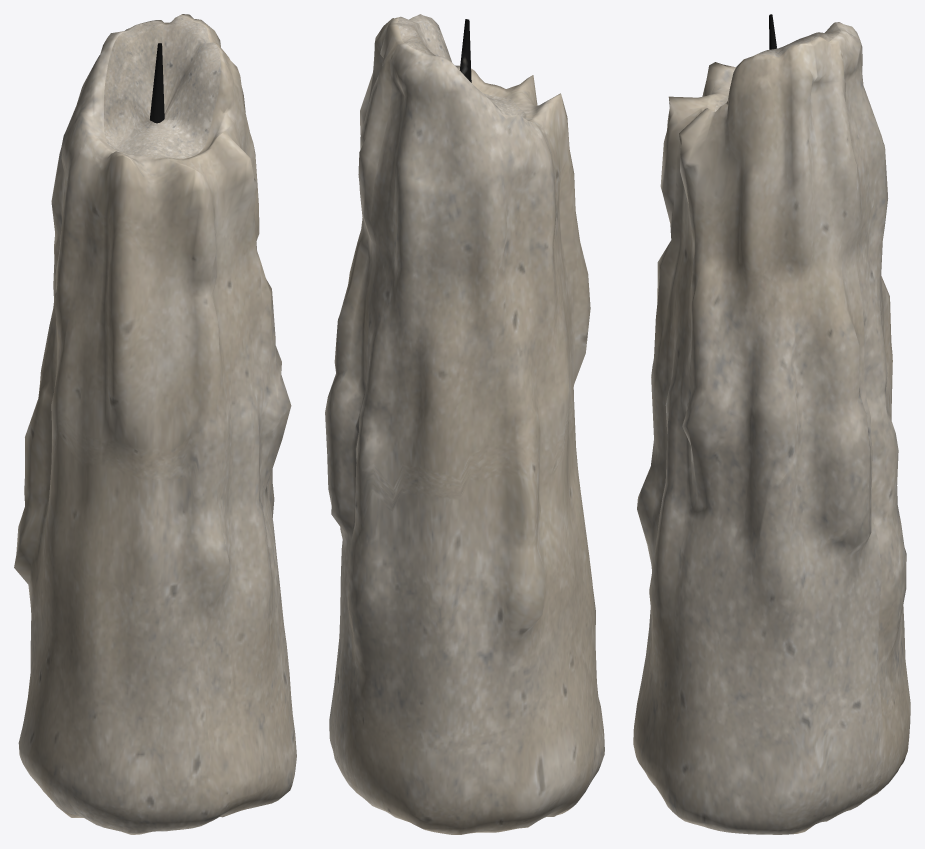
The model's file is Candle7.fbx.
The picture shows the model from 3 angles, left to right: view 1: azimuth 30°, elevation 25°; view 2: azimuth 150°, elevation 25°; view 3: azimuth 270°, elevation 25°; orthographic projection. The views are drawn at different scales.
Visible parts, largest first — view 1: pCylinder2; view 2: pCylinder2; view 3: pCylinder2.
Boxes of the visible parts, x1,y1,x2,y2 form: pCylinder2: (14, 14, 296, 834); pCylinder2: (325, 14, 604, 834); pCylinder2: (633, 14, 910, 834).
Bounding box in the file's own units: 1.13 × 3.38 × 1.1.
Materials: 1 (1 with a texture image).
